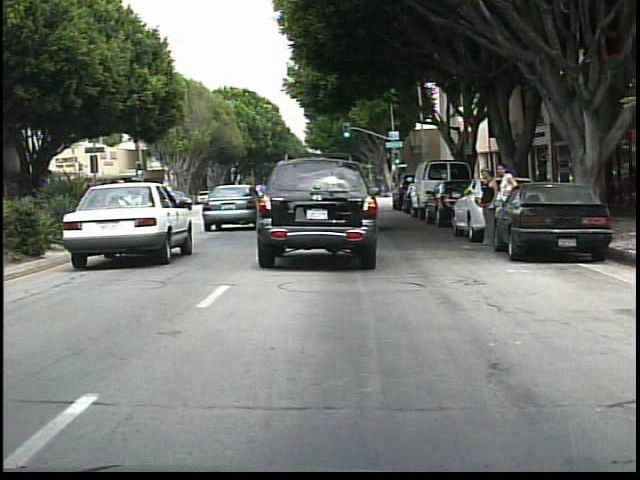person: (493, 159, 519, 246), (476, 170, 499, 251)
